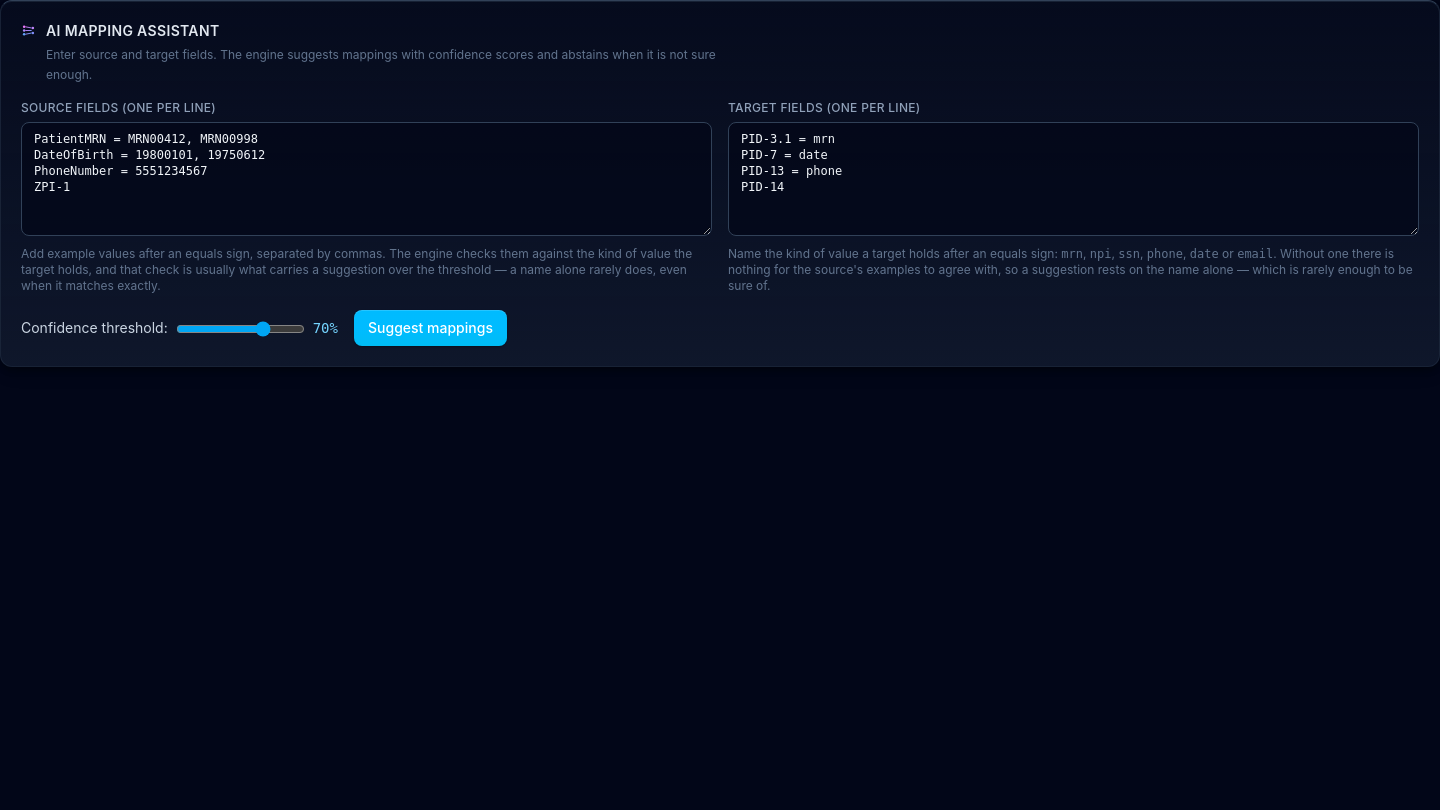
MapperPanel › renders confidence of 0 as "0", not blank
The width and height of the screenshot is (1440, 810).
Click the button "Suggest mappings" at (430, 328), box [354,310,507,346]
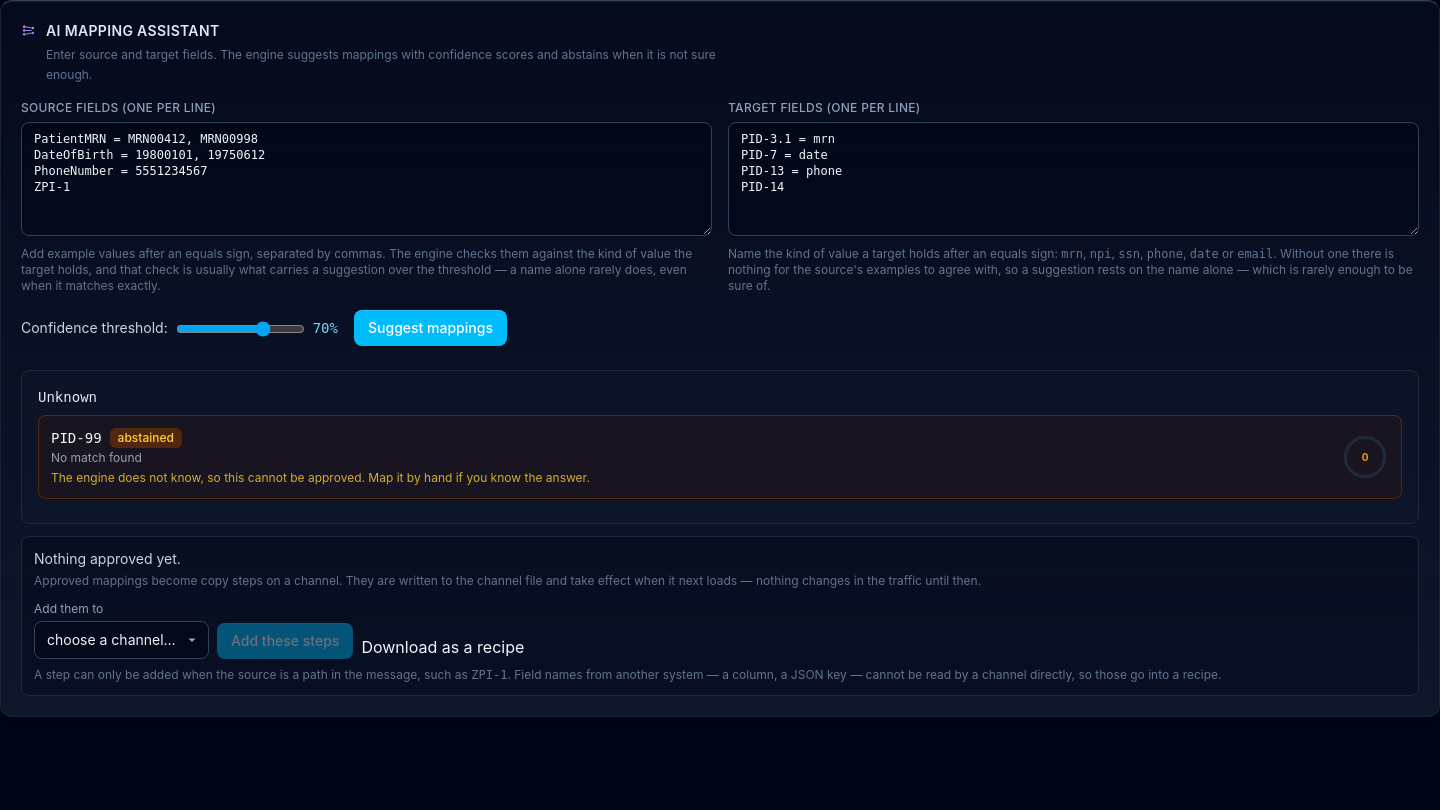
Expected: the text "PID-99" is shown, [51,428,102,448]
Expected: the text "0" is shown, [1362,450,1368,464]
